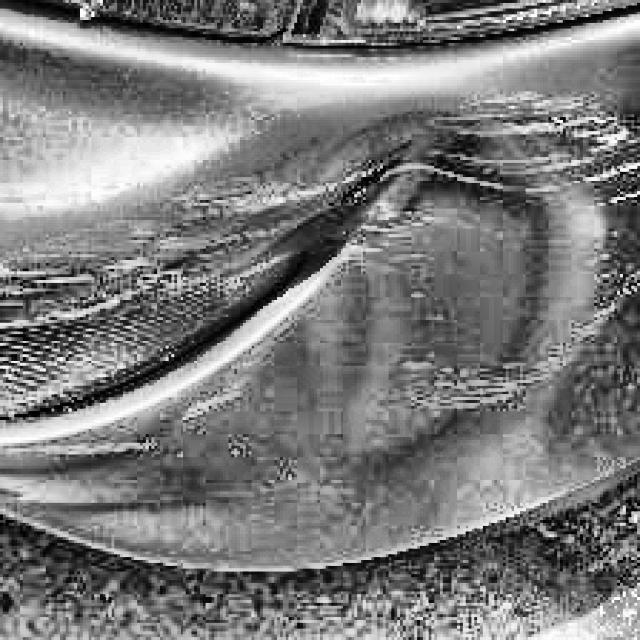bumper_dent: (299, 109, 550, 418)
bumper_scratch: (8, 193, 264, 296)
